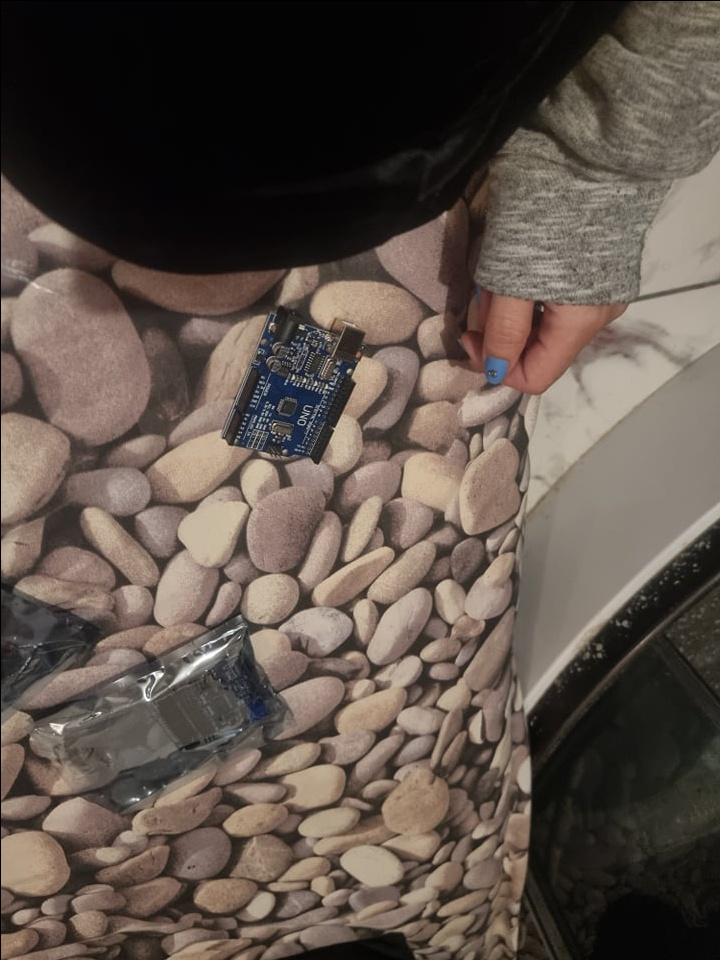UNO R3: (221, 302, 366, 464)
